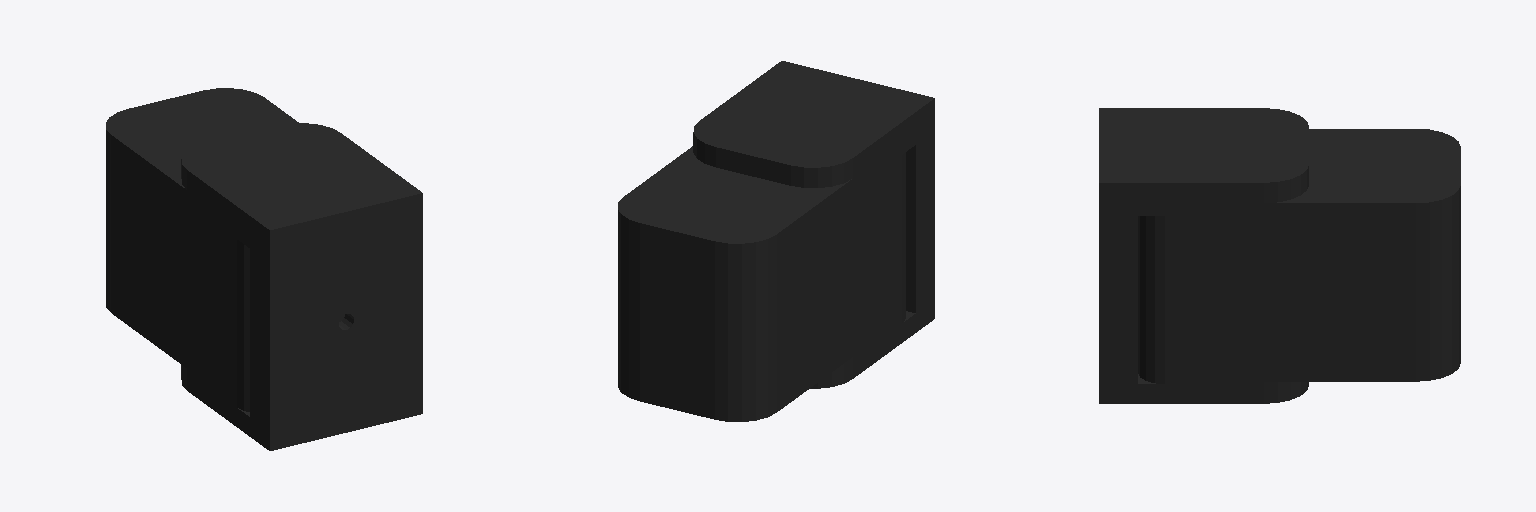
The picture shows the model from 3 angles: view 1: azimuth 30°, elevation 25°; view 2: azimuth 150°, elevation 25°; view 3: azimuth 270°, elevation 25°; orthographic projection.
Visible parts, largest first — view 1: link_15.0; view 2: link_15.0; view 3: link_15.0.
Part boxes in pixels (left/top/right/bottom): link_15.0: left=106, top=88, right=422, bottom=450; link_15.0: left=618, top=61, right=934, bottom=421; link_15.0: left=1099, top=108, right=1460, bottom=403.
Size of the model in its own units: 0.0196 by 0.027 by 0.0401.